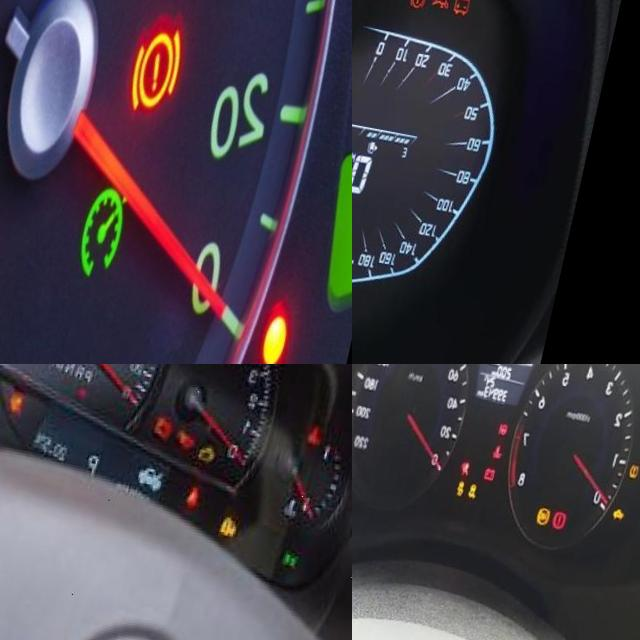Electronic Power Steering: (510, 411, 521, 424)
High Engine Coolant Temperature: (505, 432, 516, 449)
